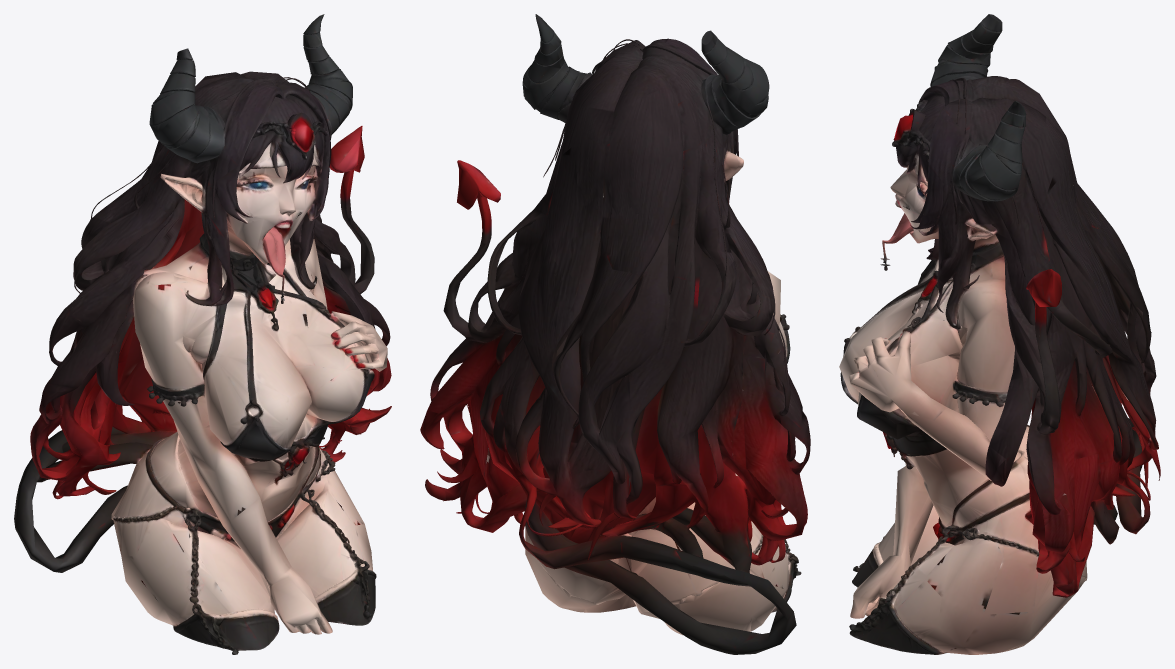
3 renders of one model, left to right at view 1: azimuth 30°, elevation 25°; view 2: azimuth 150°, elevation 25°; view 3: azimuth 270°, elevation 25°, orthographic. The views are drawn at different scales.
Parts seen in each view (by area): view 1: model; view 2: model; view 3: model.
Part boxes in pixels (x1,y1,x2,y2): model: [14, 14, 391, 654]; model: [420, 14, 810, 654]; model: [839, 14, 1160, 654].
Bounding box in the file's own units: 1.28 × 1.89 × 0.9769.
1 material, 1 textured.
